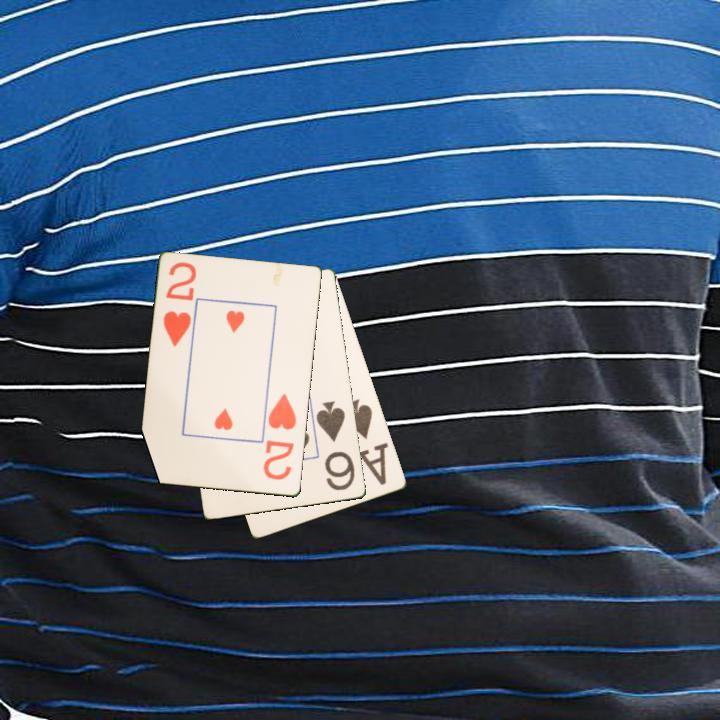2h: (260, 390, 300, 483), (160, 259, 199, 350)
6s: (313, 398, 358, 494)
As: (341, 395, 385, 480)
